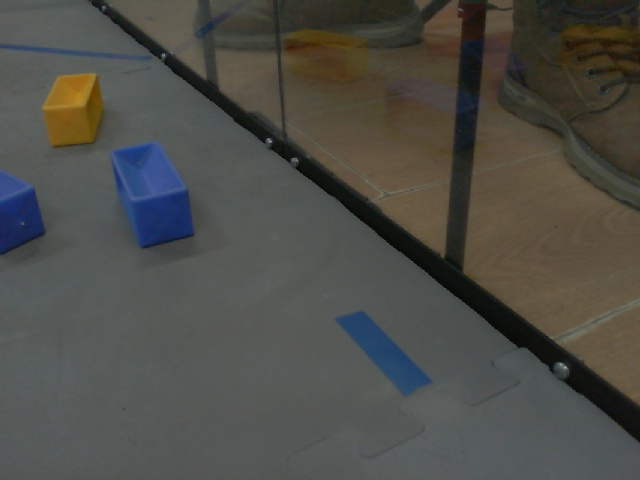BlueSample: (102, 137, 202, 252), (1, 165, 50, 257)
YellowSample: (40, 69, 108, 148)
